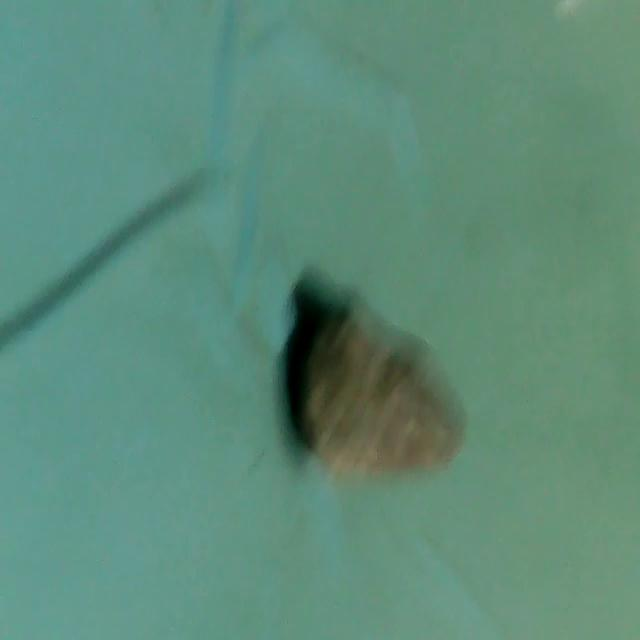rock: (288, 298, 467, 494)
